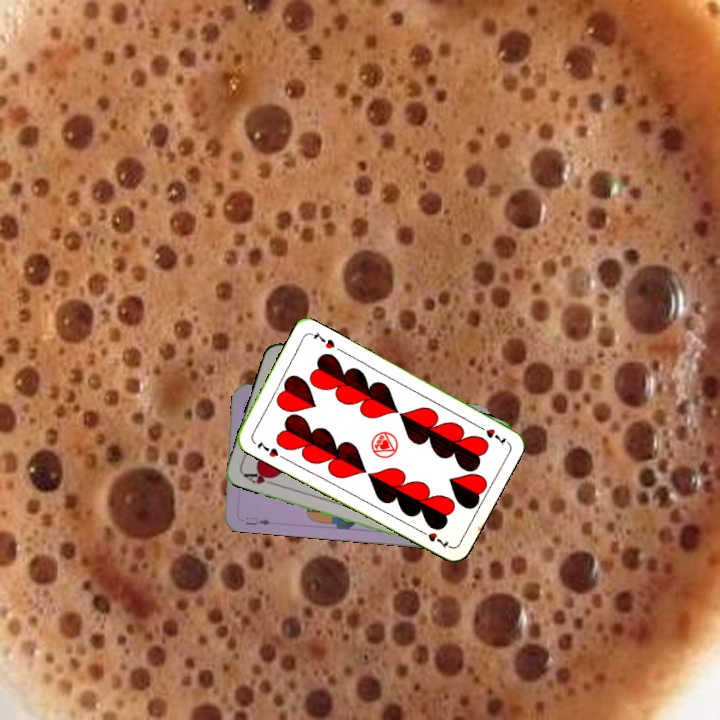EU: (242, 513, 273, 528)
H7: (472, 421, 509, 448), (253, 437, 281, 460)
HA: (239, 467, 279, 488)
